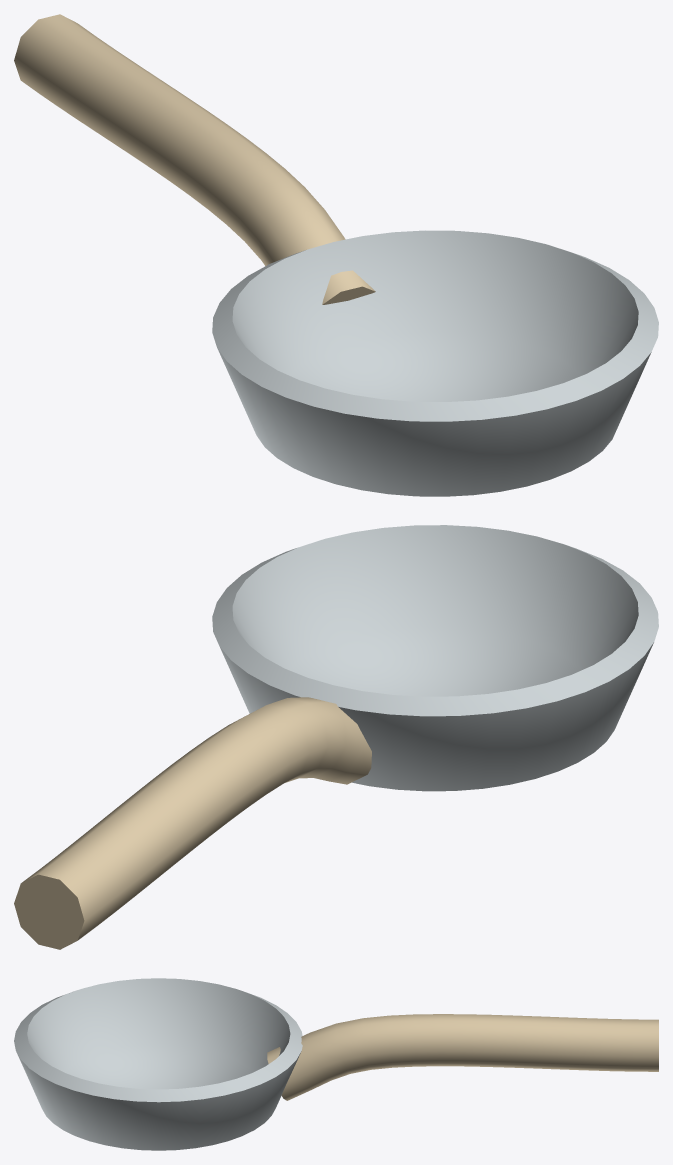
Rendered from cheesemaking-and-dairy-cellar-salt-scoop-a00ce203__30878.glb.
3 views of the same model, one above another, from view 1: azimuth 30°, elevation 25°; view 2: azimuth 150°, elevation 25°; view 3: azimuth 270°, elevation 25° (orthographic). The views are drawn at different scales.
Visible parts, largest first — view 1: salt-scoop; view 2: salt-scoop; view 3: salt-scoop.
Part boxes in pixels (x1,y1,x2,y2): salt-scoop: (14,14,658,496); salt-scoop: (14,525,658,949); salt-scoop: (14,978,658,1150).
Size of the model in its own units: 0.11 by 0.0499 by 0.245.
